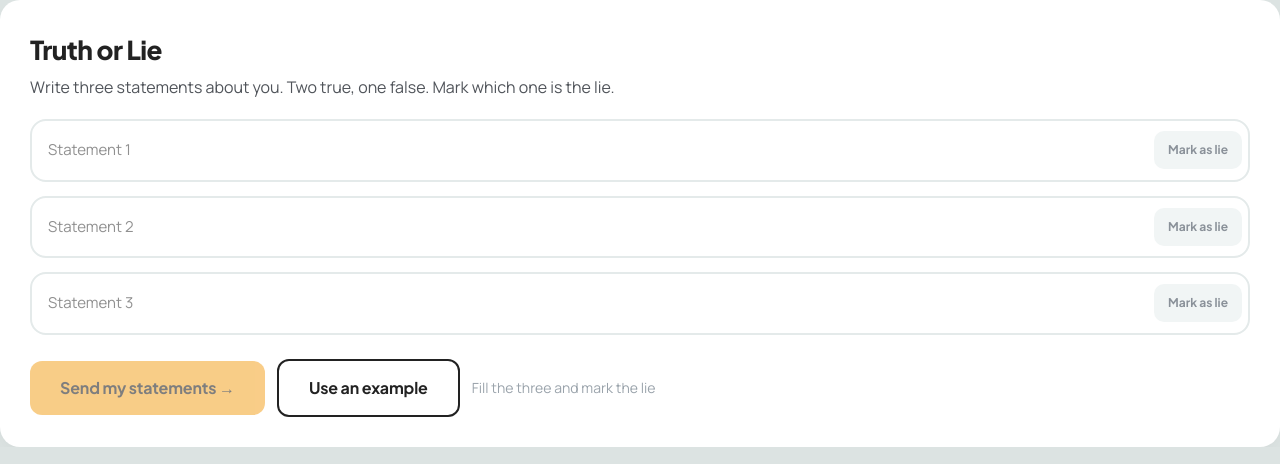
WriteStatementsView › keeps the submit button disabled until all three fields are filled and one is marked as the lie
Expected: the button "Send my statements →" is disabled, [30,360,265,414]
// Fill all three but don't mark a lie.
Type "I like tea" into the field with placeholder "Statement 1" at (595, 150), box [48,127,1142,174]
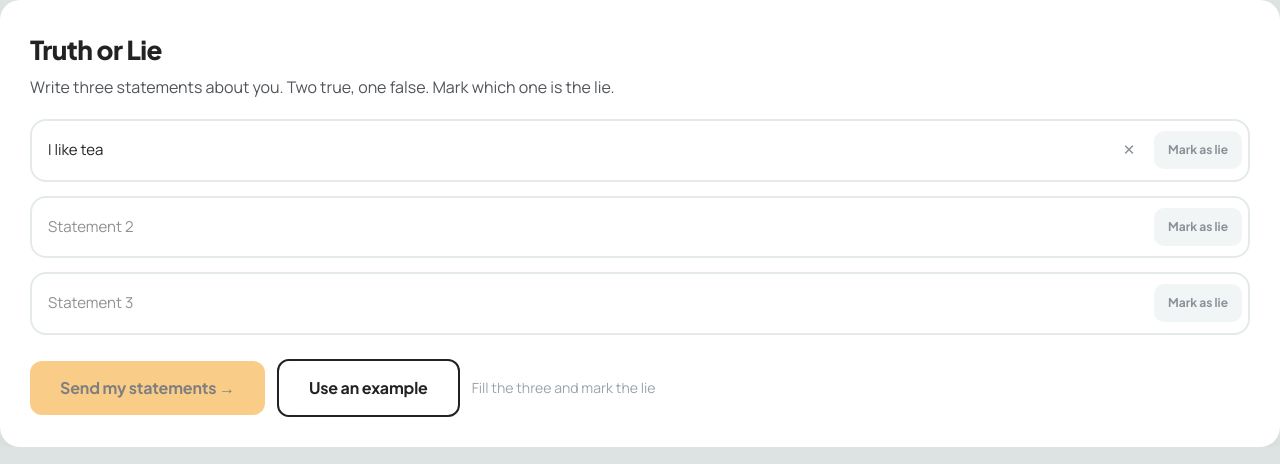
Type "I like coffee" into the field with placeholder "Statement 2" at (595, 227), box [48,204,1142,250]
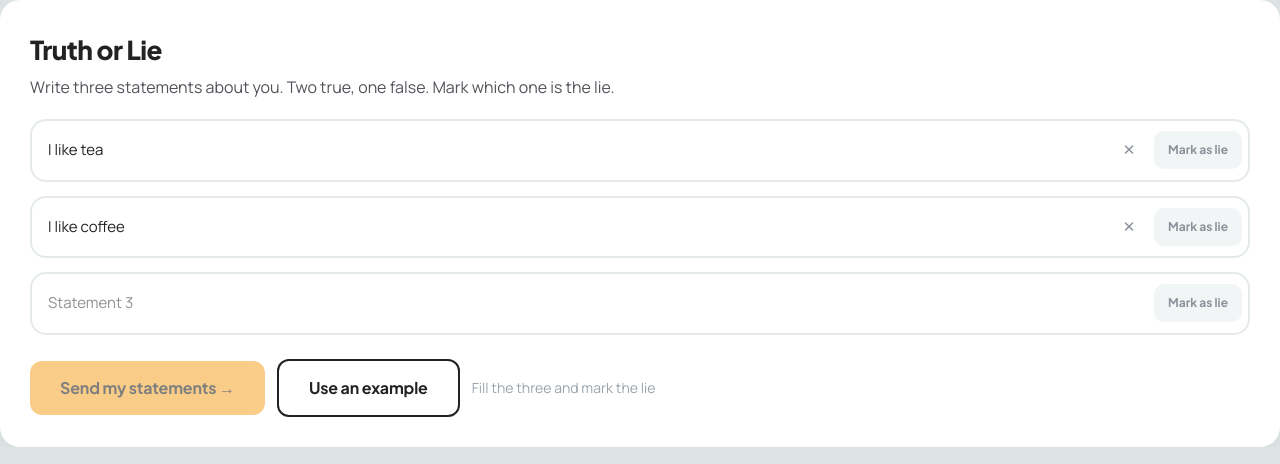
Type "I like juice" into the field with placeholder "Statement 3" at (595, 303), box [48,280,1142,326]
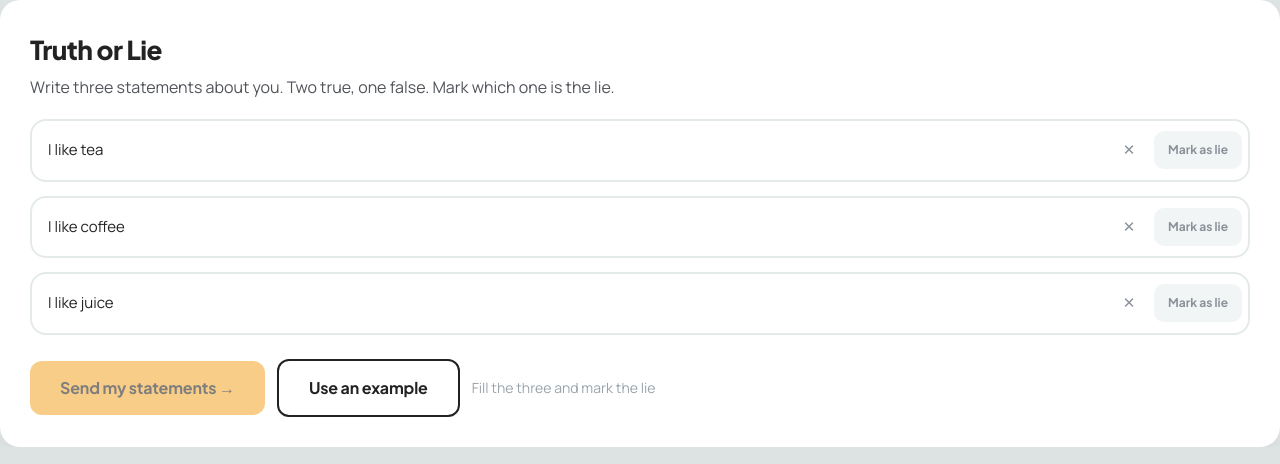
Expected: the button "Send my statements →" is disabled, [30,360,265,414]
Click the 2nd button "Mark as lie" at (1198, 227), box [1154,208,1242,246]
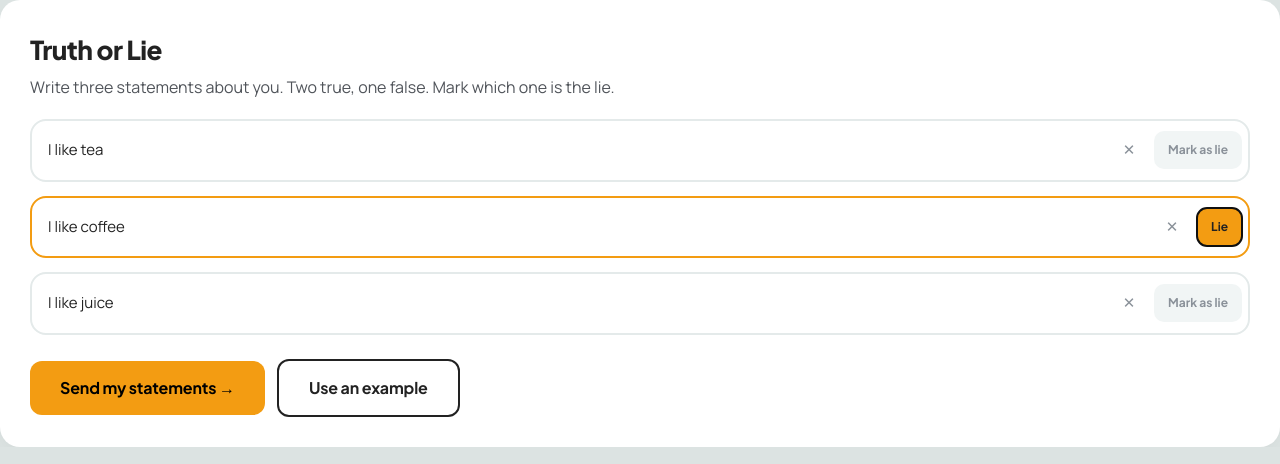
Expected: the button "Send my statements →" is enabled, [30,360,265,414]
